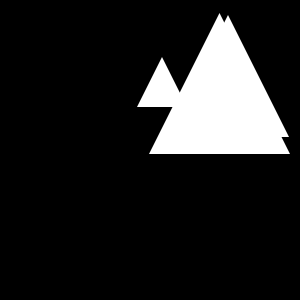triangle: (149, 13, 290, 154), (167, 15, 289, 137), (137, 57, 187, 107)
